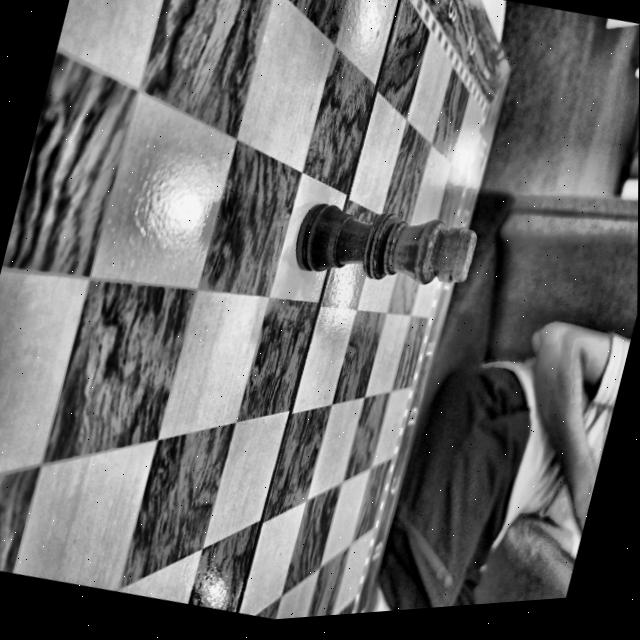black-king: (296, 201, 477, 284)
